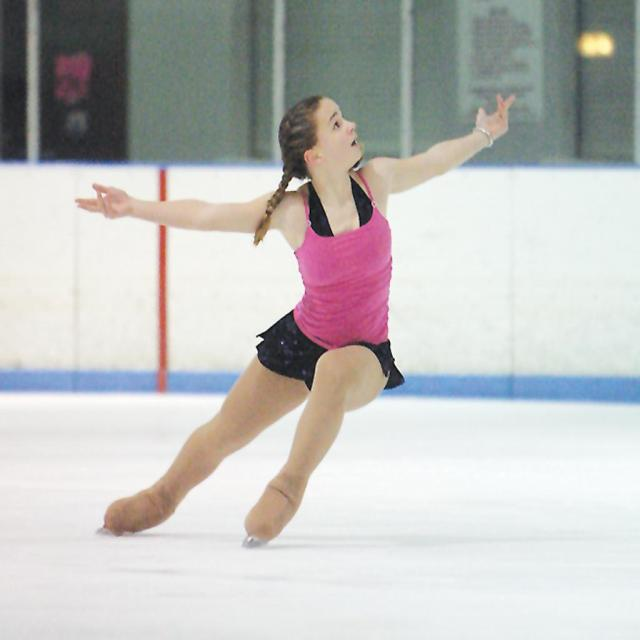nomask: (315, 98, 363, 169)
